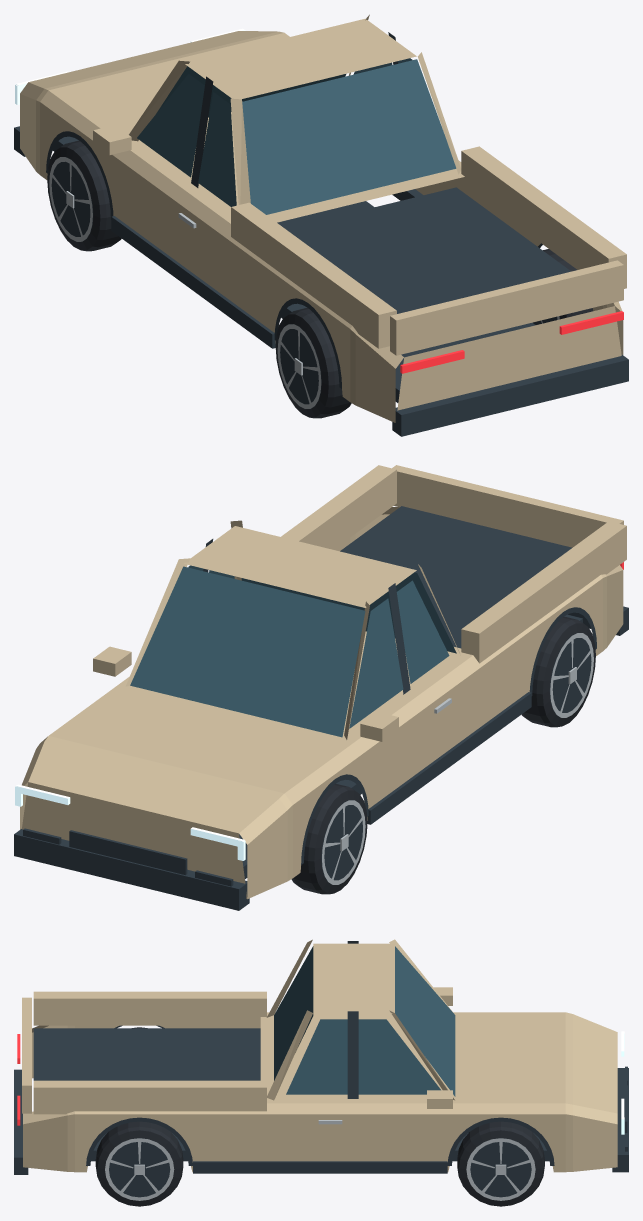
The model's file is forge_u.glb.
The picture shows the model from 3 angles, top to bottom: view 1: azimuth 30°, elevation 25°; view 2: azimuth 150°, elevation 25°; view 3: azimuth 270°, elevation 25°; orthographic projection. The views are drawn at different scales.
Visible parts, largest first — view 1: Body, Wheel_2, Wheel_0; view 2: Body, Wheel_0, Wheel_2; view 3: Body, Wheel_3, Wheel_1.
Boxes of the visible parts, <box> form: Body: <box>14,14,628,436</box>; Wheel_2: <box>275,307,351,418</box>; Wheel_0: <box>47,140,121,251</box>; Body: <box>14,465,628,910</box>; Wheel_0: <box>291,783,367,894</box>; Wheel_2: <box>521,616,595,727</box>; Body: <box>14,939,628,1174</box>; Wheel_3: <box>95,1121,183,1206</box>; Wheel_1: <box>457,1121,544,1206</box>.
Bounding box in the file's own units: 2.23 × 1.68 × 5.19.
